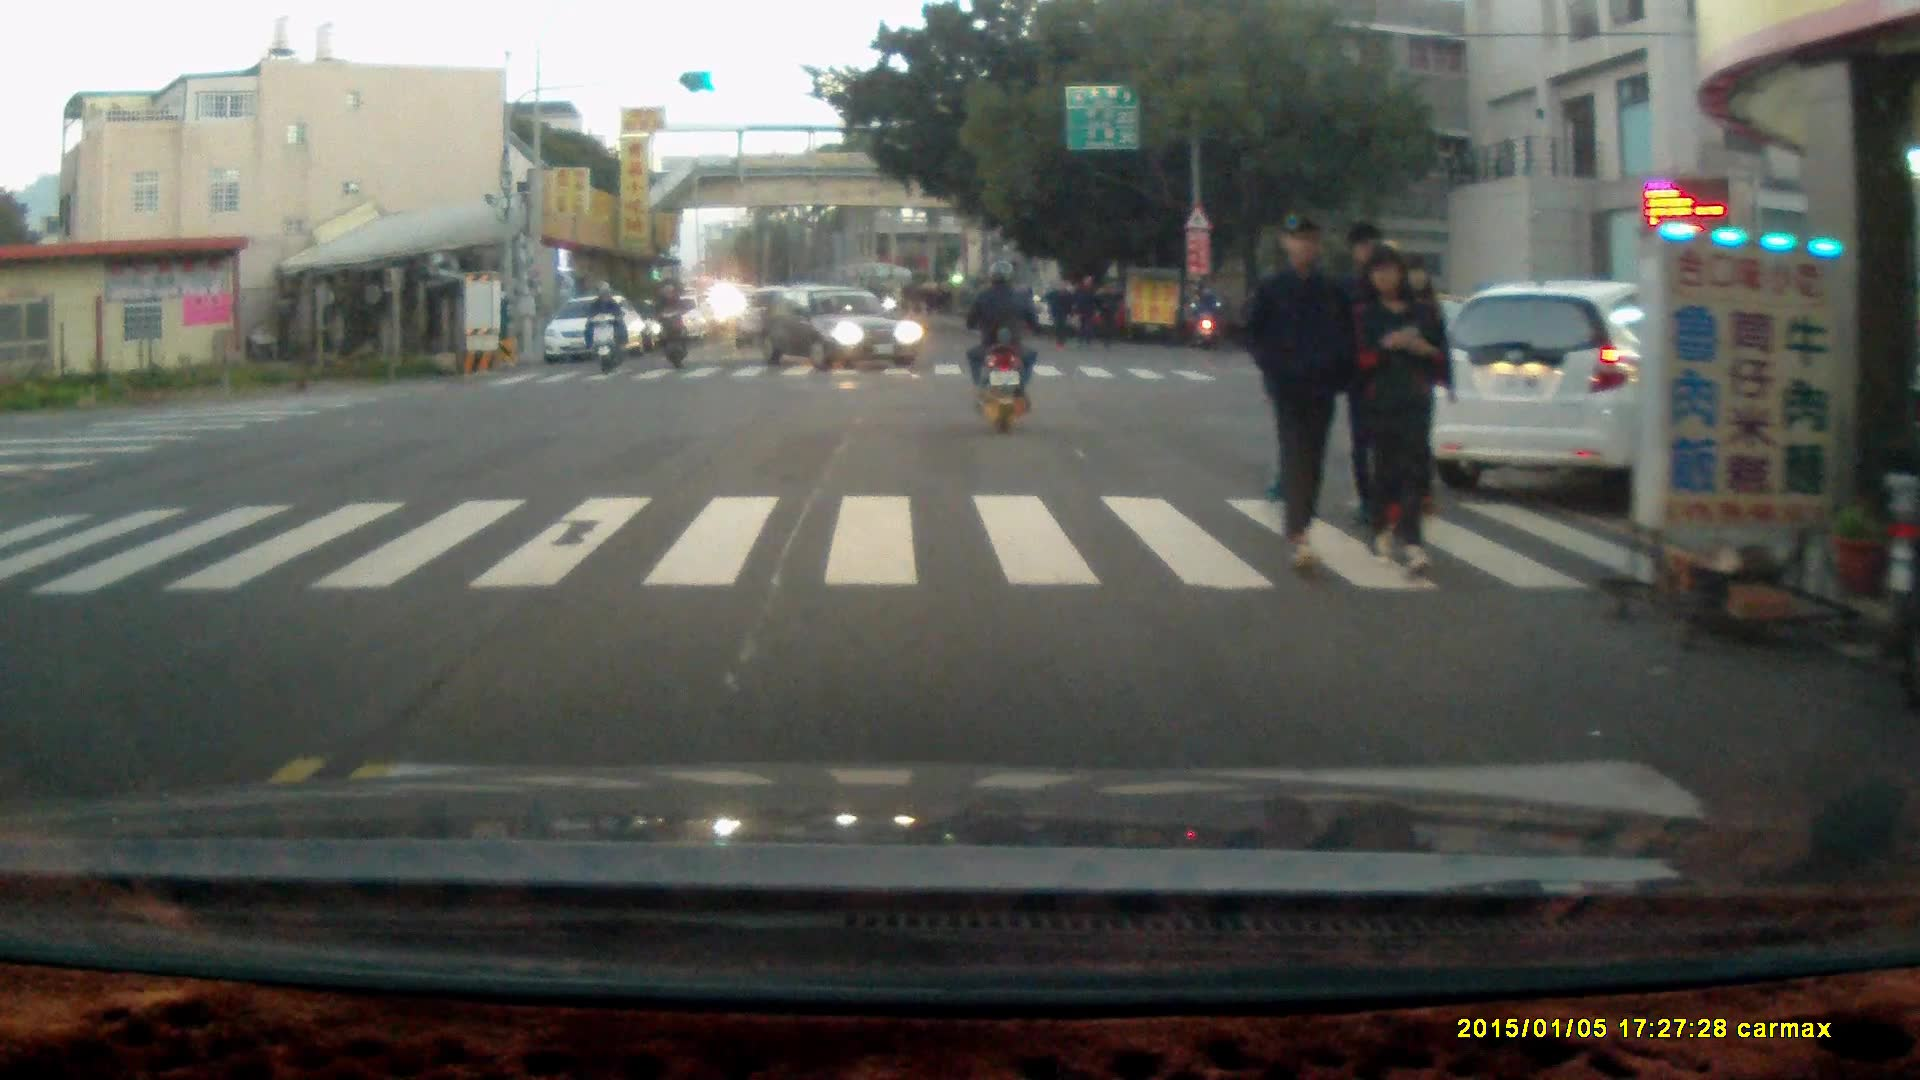pedestrian: (1241, 216, 1358, 580), (1350, 241, 1442, 579), (1071, 272, 1098, 352), (1089, 280, 1120, 351), (1042, 277, 1070, 351)
rider: (963, 257, 1034, 438), (650, 279, 693, 371), (584, 279, 625, 374), (1184, 289, 1224, 351)
vehicle: (1425, 275, 1885, 504), (754, 281, 923, 373), (543, 294, 646, 365)
